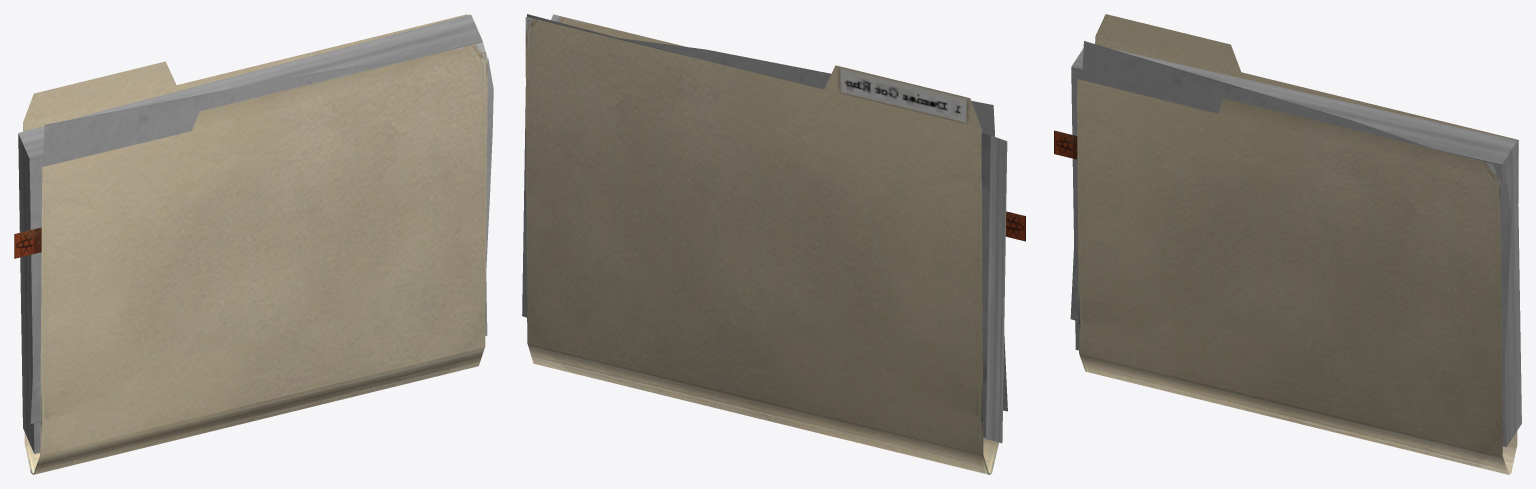
File: p_pent_manila_folder_2_LOD0.obj
The picture shows the model from 3 angles, left to right: view 1: azimuth 30°, elevation 25°; view 2: azimuth 150°, elevation 25°; view 3: azimuth 330°, elevation 25°; orthographic projection. The views are drawn at different scales.
Parts seen in each view (by area): view 1: mtl_p_pent_manila_folder, mtl_dest_glo_paper_02; view 2: mtl_p_pent_manila_folder, mtl_dest_glo_paper_02; view 3: mtl_p_pent_manila_folder, mtl_dest_glo_paper_02.
Part boxes in pixels (left/top/right/bottom): mtl_p_pent_manila_folder: left=14, top=14, right=487, bottom=474; mtl_dest_glo_paper_02: left=18, top=14, right=493, bottom=453; mtl_p_pent_manila_folder: left=525, top=14, right=1025, bottom=474; mtl_dest_glo_paper_02: left=522, top=14, right=1007, bottom=443; mtl_p_pent_manila_folder: left=1054, top=14, right=1518, bottom=474; mtl_dest_glo_paper_02: left=1070, top=41, right=1521, bottom=447.
Size of the model in its own units: 42.41 by 31.32 by 3.2.
